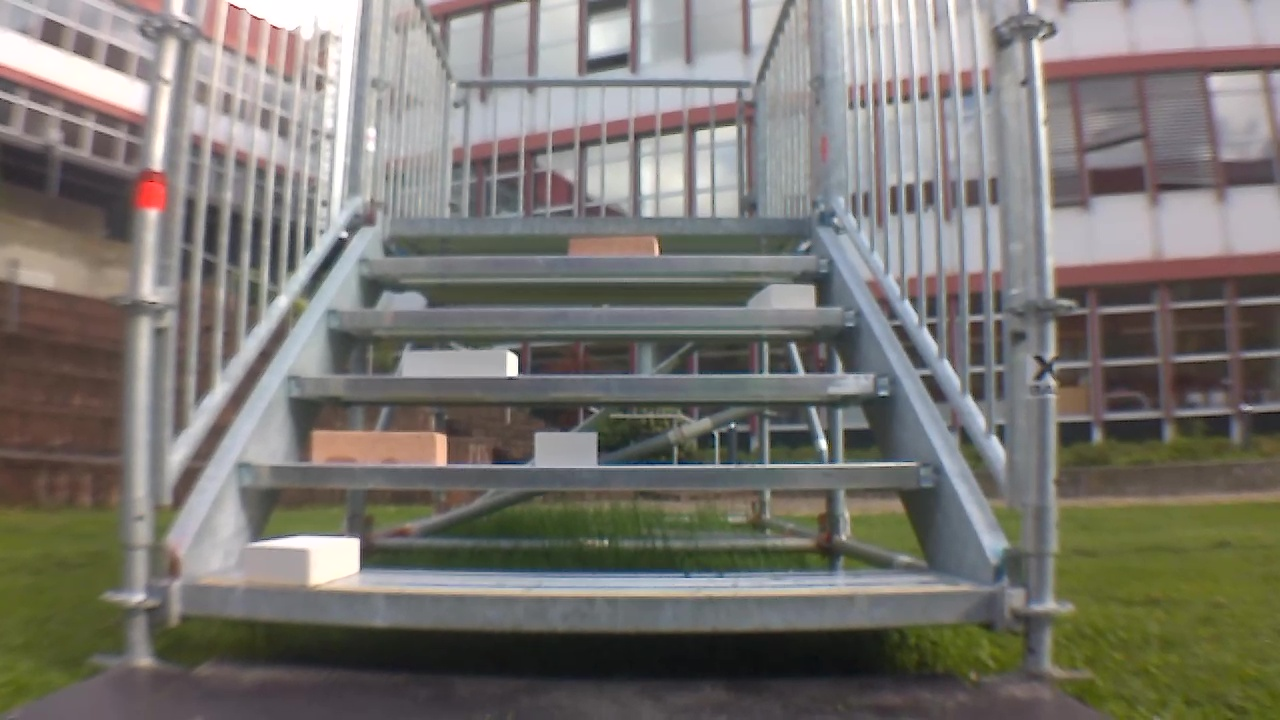brick: (241, 532, 367, 585), (304, 430, 455, 467), (395, 349, 521, 376), (534, 429, 603, 469), (567, 235, 660, 253), (755, 282, 814, 310)
edge: (175, 590, 1002, 626), (236, 461, 939, 489), (286, 373, 893, 402), (324, 306, 856, 334), (352, 255, 831, 275), (389, 219, 812, 237)
stairs: (123, 0, 1049, 662)
steps: (164, 213, 1018, 632)
